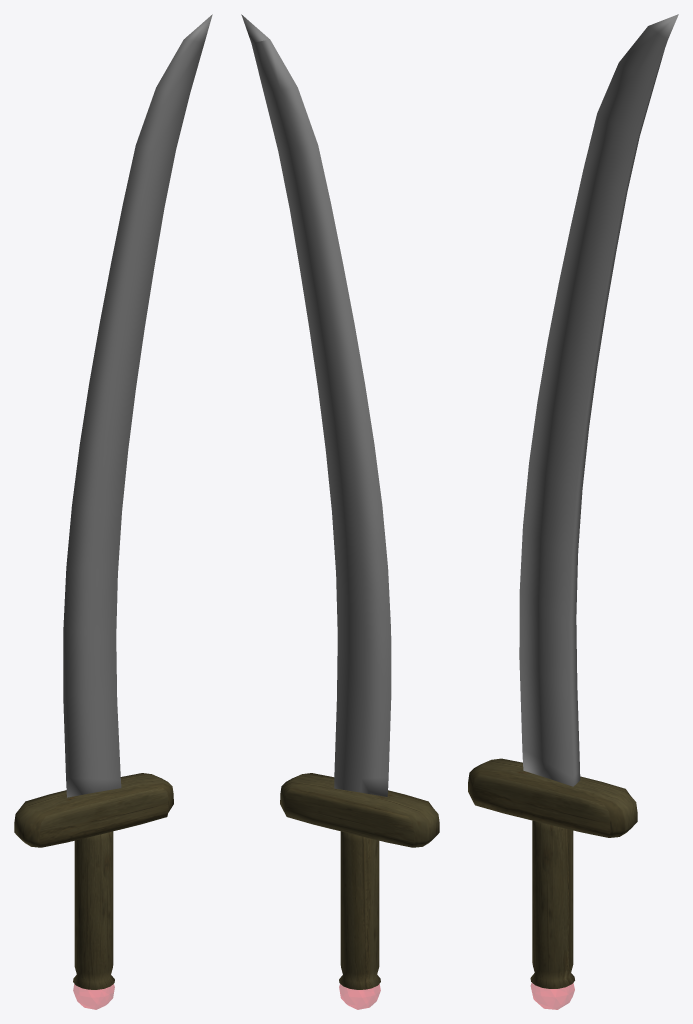
File: Sword.gltf
3 renders of one model, left to right at view 1: azimuth 30°, elevation 25°; view 2: azimuth 150°, elevation 25°; view 3: azimuth 330°, elevation 25°, orthographic. The views are drawn at different scales.
Visible parts, largest first — view 1: Blade, Thing, Cylinder, Icosphere; view 2: Blade, Thing, Cylinder, Icosphere; view 3: Blade, Thing, Cylinder, Icosphere.
Boxes of the visible parts, bbox=[...] form: Blade: bbox=[63, 14, 212, 797]; Thing: bbox=[14, 773, 173, 847]; Cylinder: bbox=[73, 831, 114, 989]; Icosphere: bbox=[73, 984, 114, 1009]; Blade: bbox=[241, 14, 391, 796]; Thing: bbox=[280, 773, 439, 847]; Cylinder: bbox=[339, 831, 380, 989]; Icosphere: bbox=[339, 984, 380, 1009]; Blade: bbox=[519, 14, 678, 786]; Thing: bbox=[468, 758, 637, 837]; Cylinder: bbox=[530, 821, 574, 988]; Icosphere: bbox=[531, 983, 574, 1009].
Size of the model in its own units: 0.2175 by 1.03 by 0.0415.
Materials: 3 (1 with a texture image).
